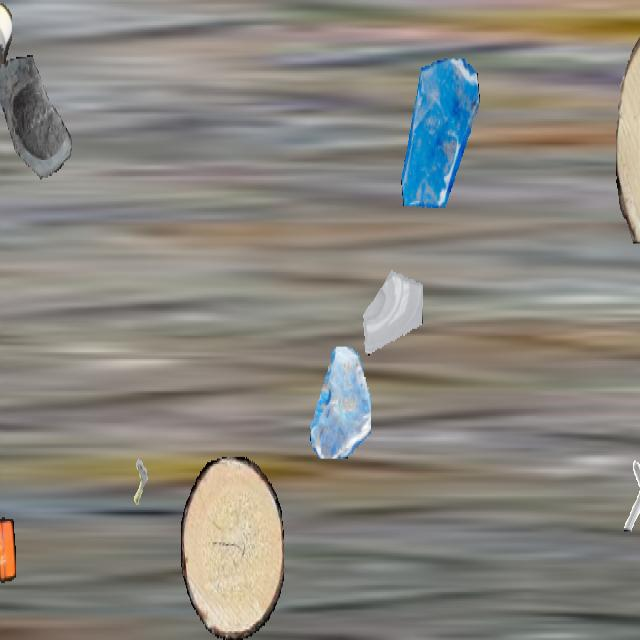glass: (398, 59, 482, 208), (0, 55, 81, 201), (308, 347, 370, 457), (362, 249, 422, 355)
metal: (118, 454, 158, 524), (614, 457, 640, 531)
plastic: (0, 2, 12, 314), (0, 496, 16, 638)
wood: (181, 457, 283, 638), (616, 14, 640, 246)
